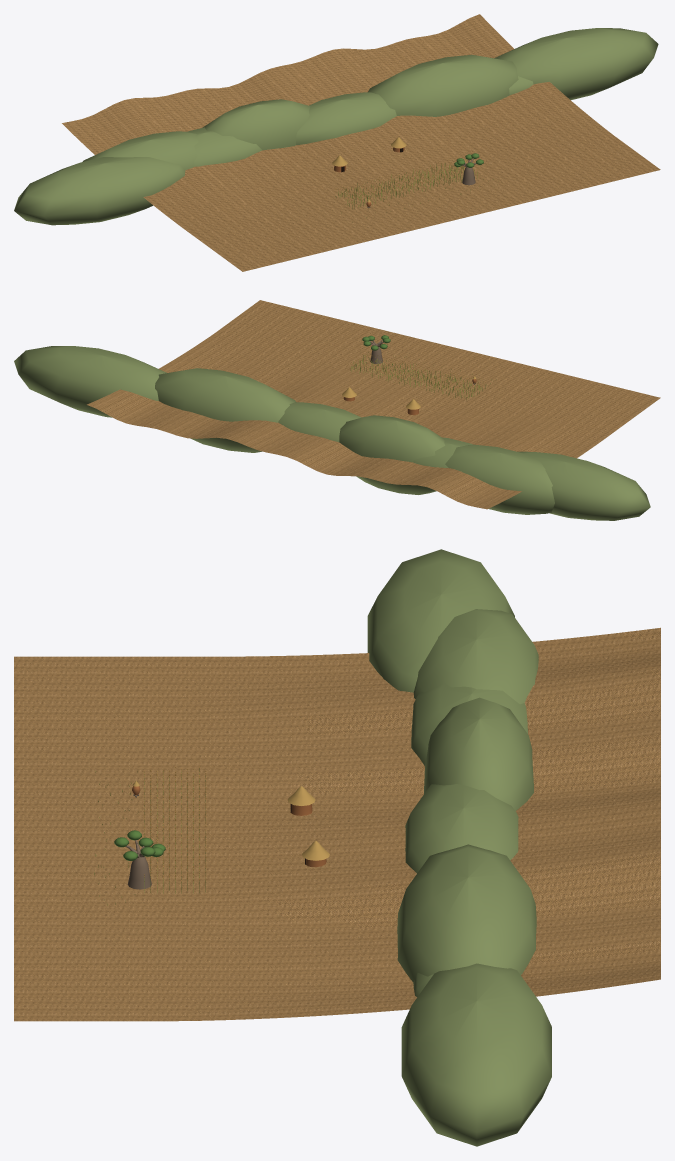
The model's file is champ.glb.
3 renders of one model, top to bottom at view 1: azimuth 30°, elevation 25°; view 2: azimuth 150°, elevation 25°; view 3: azimuth 270°, elevation 25°, orthographic. The views are drawn at different scales.
Parts seen in each view (by area): view 1: sol, decor; view 2: sol, decor; view 3: sol, decor.
Boxes of the visible parts, bbox=[...] form: sol: bbox=[62, 14, 660, 271]; decor: bbox=[14, 28, 658, 225]; sol: bbox=[87, 300, 660, 509]; decor: bbox=[14, 335, 650, 520]; sol: bbox=[14, 627, 660, 1021]; decor: bbox=[94, 549, 551, 1146].
Bounding box in the file's own units: 188 × 19.8 × 90.
Materials: 12 (1 with a texture image).
